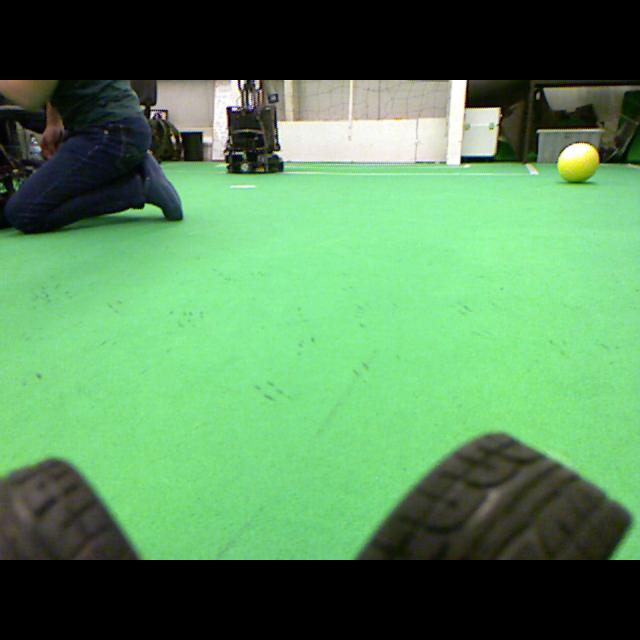ball: (558, 143, 599, 182)
goal: (448, 80, 466, 165)
robot: (223, 80, 284, 174)
